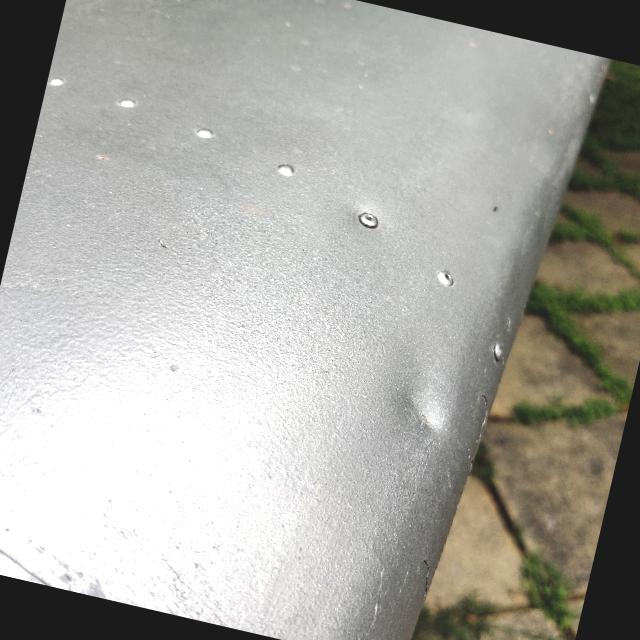dent: (369, 360, 466, 446)
